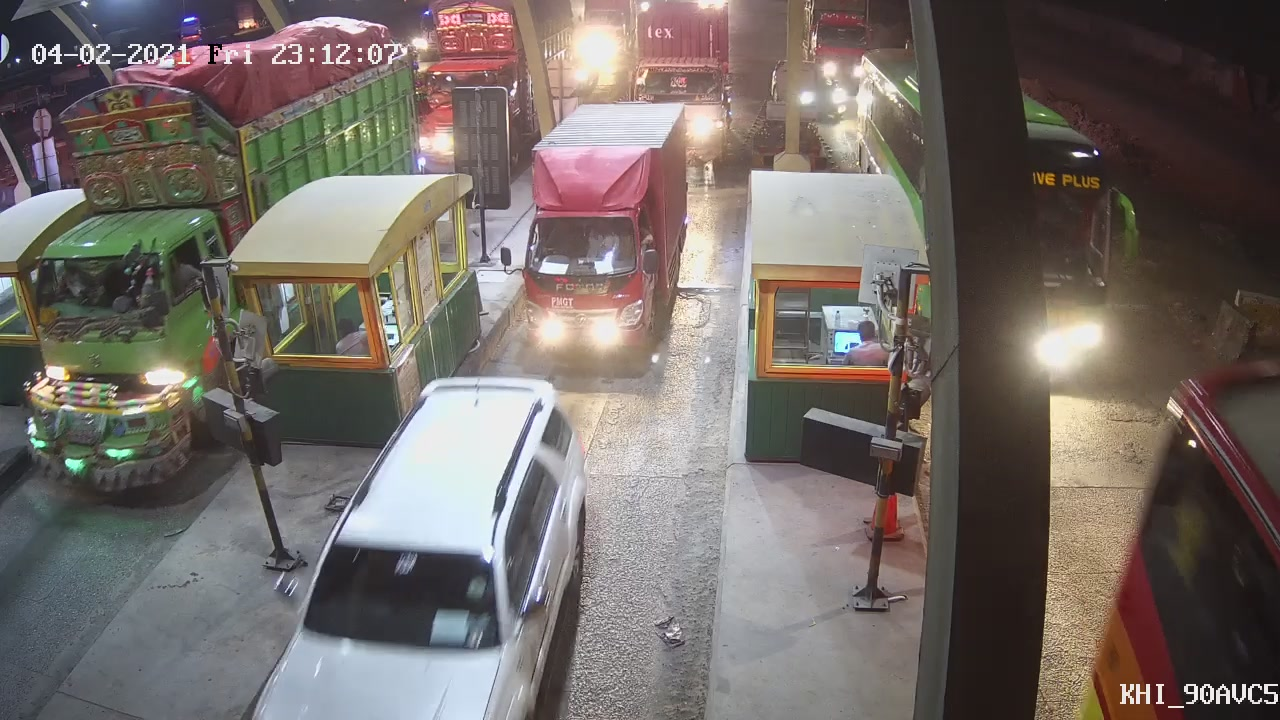F3: (494, 97, 700, 357)
